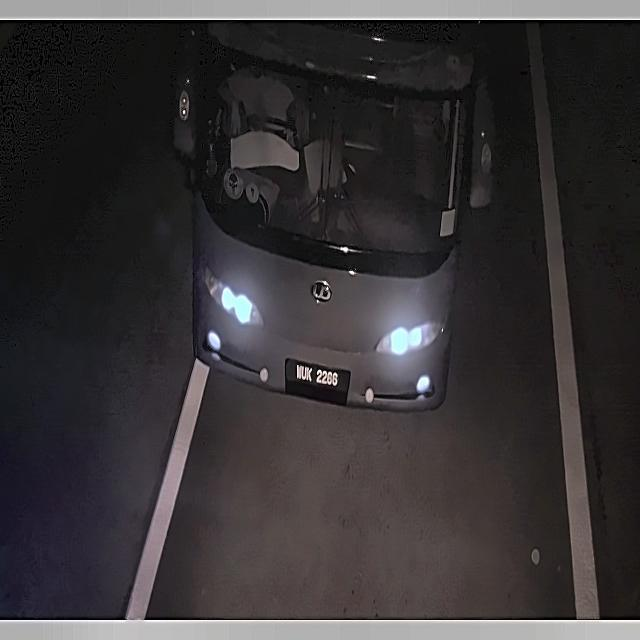car: (290, 356, 344, 397)
